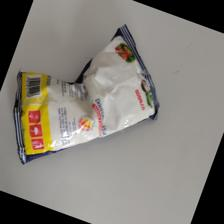Salt: (15, 25, 160, 168)
